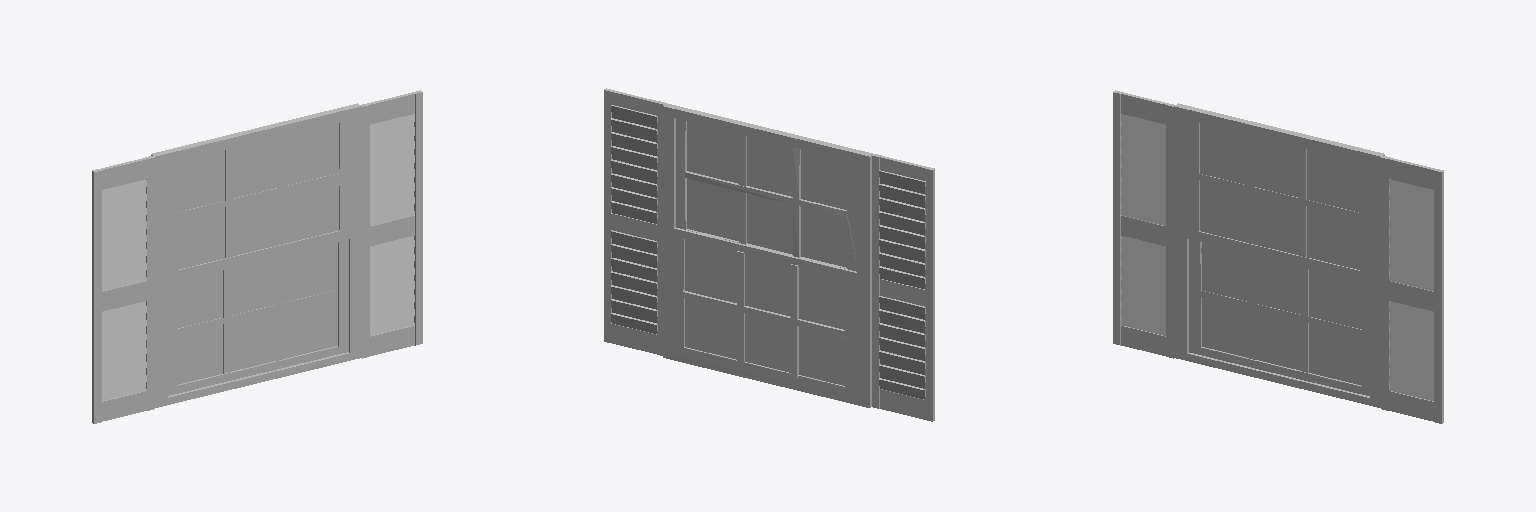
File: window_with_shutters_30_36_6panel.obj
3 renders of one model, left to right at view 1: azimuth 30°, elevation 25°; view 2: azimuth 150°, elevation 25°; view 3: azimuth 330°, elevation 25°, orthographic.
Parts seen in each view (by area): view 1: Glass_Cube.001, WindowFrame.002_Plane.006, ShutterPanes.001_Plane.003, ShutterEdge.001_Plane.002; view 2: Glass_Cube.001, WindowFrame.002_Plane.006, ShutterPanes.001_Plane.003, ShutterEdge.001_Plane.002; view 3: Glass_Cube.001, WindowFrame.002_Plane.006, ShutterPanes.001_Plane.003, ShutterEdge.001_Plane.002.
Boxes of the visible parts, x1,y1,x2,y2 form: Glass_Cube.001: [177, 123, 339, 384]; WindowFrame.002_Plane.006: [151, 103, 361, 407]; ShutterPanes.001_Plane.003: [102, 114, 414, 400]; ShutterEdge.001_Plane.002: [92, 90, 422, 423]; Glass_Cube.001: [685, 122, 846, 385]; WindowFrame.002_Plane.006: [663, 103, 872, 407]; ShutterPanes.001_Plane.003: [611, 105, 925, 399]; ShutterEdge.001_Plane.002: [604, 88, 934, 421]; Glass_Cube.001: [1200, 124, 1361, 385]; WindowFrame.002_Plane.006: [1174, 103, 1384, 407]; ShutterPanes.001_Plane.003: [1121, 114, 1433, 400]; ShutterEdge.001_Plane.002: [1113, 90, 1443, 423].
Size of the model in its own units: 103 by 75.39 by 2.89.